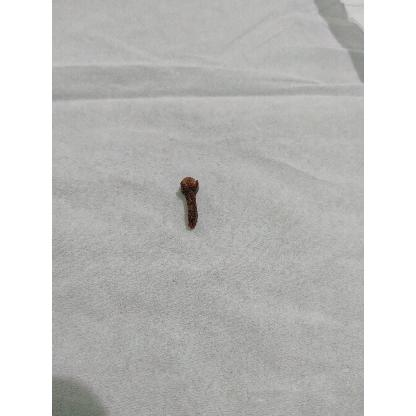sedang: (178, 177, 199, 231)
